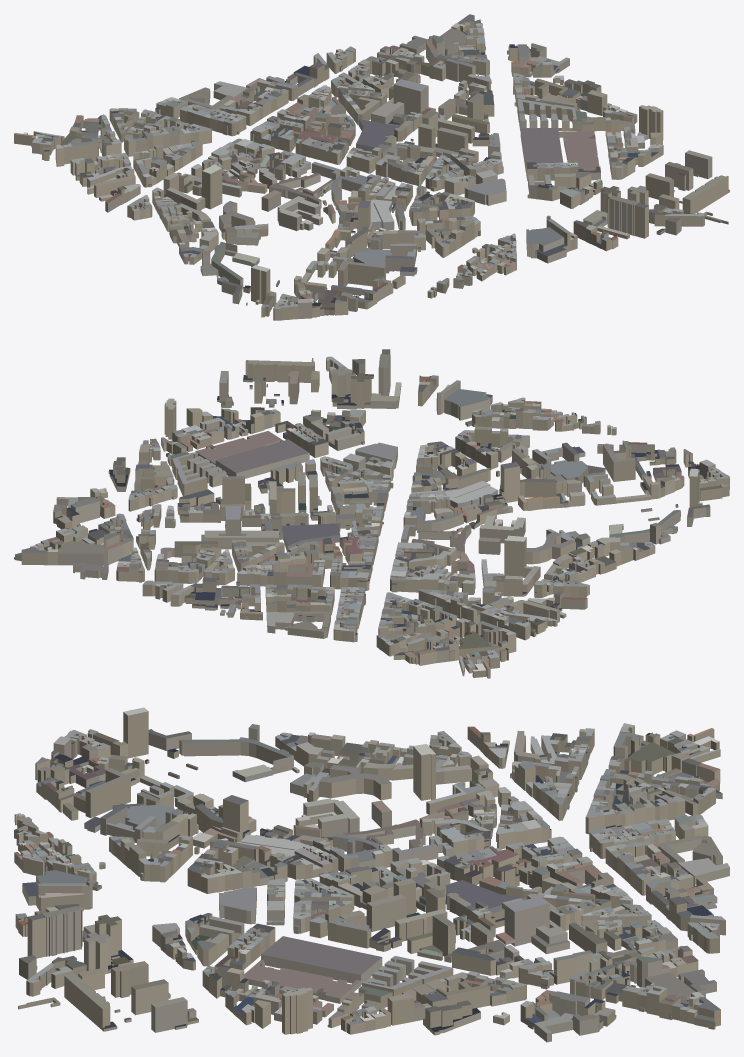
3 renders of one model, top to bottom at view 1: azimuth 30°, elevation 25°; view 2: azimuth 150°, elevation 25°; view 3: azimuth 270°, elevation 25°, orthographic. The views are drawn at different scales.
Parts seen in each view (by area): view 1: tuile; view 2: tuile; view 3: tuile.
Part boxes in pixels (left/top/right/bottom): tuile: left=14, top=14, right=729, bottom=320; tuile: left=14, top=349, right=729, bottom=678; tuile: left=14, top=707, right=729, bottom=1042.
Bounding box in the file's own units: 1046 × 88.71 × 1023.
